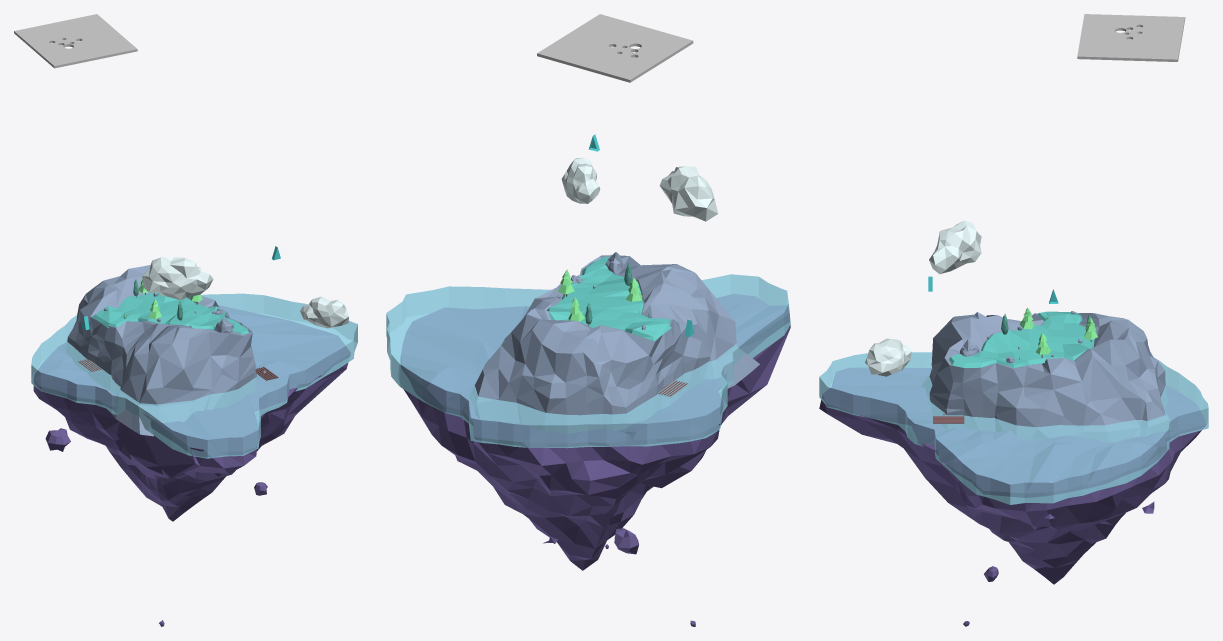
The model's file is tutorial-water.dae.
The picture shows the model from 3 angles, left to right: view 1: azimuth 30°, elevation 25°; view 2: azimuth 150°, elevation 25°; view 3: azimuth 270°, elevation 25°; orthographic projection. The views are drawn at different scales.
Parts seen in each view (by area): view 1: bottom_platform_3, water, platform_hole, Cube, platform_herb_1, Cloud_4, Cloud_3; view 2: bottom_platform_3, water, platform_hole, Cube, platform_herb_1, Cloud_4, Cloud_3; view 3: bottom_platform_3, water, platform_hole, Cube, platform_herb_1, Cloud_4, Cloud_3.
Boxes of the visible parts, bbox=[...] form: bottom_platform_3: bbox=[33, 305, 350, 521]; water: bbox=[31, 293, 357, 458]; platform_hole: bbox=[66, 265, 256, 436]; Cube: bbox=[14, 14, 137, 68]; platform_herb_1: bbox=[92, 292, 248, 334]; Cloud_4: bbox=[142, 257, 213, 299]; Cloud_3: bbox=[300, 296, 348, 328]; bottom_platform_3: bbox=[400, 294, 790, 570]; water: bbox=[386, 274, 790, 448]; platform_hole: bbox=[470, 255, 759, 432]; Cube: bbox=[537, 14, 693, 82]; platform_herb_1: bbox=[546, 256, 671, 341]; Cloud_4: bbox=[659, 166, 718, 221]; Cloud_3: bbox=[561, 157, 600, 203]; bottom_platform_3: bbox=[819, 368, 1206, 584]; water: bbox=[819, 352, 1208, 504]; platform_hole: bbox=[920, 312, 1170, 442]; Cube: bbox=[1077, 14, 1185, 61]; platform_herb_1: bbox=[949, 311, 1094, 367]; Cloud_4: bbox=[929, 220, 981, 274]; Cloud_3: bbox=[865, 338, 911, 376].
Bounding box in the file's own units: 2240 × 3970 × 2401.
